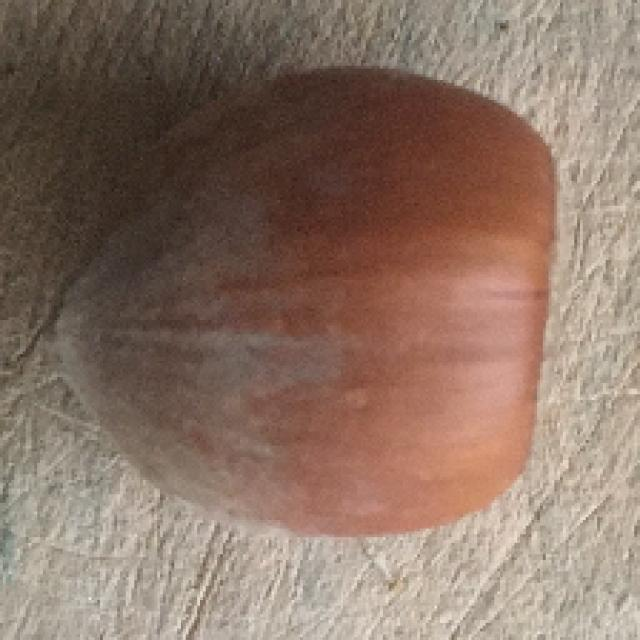QualityHazelnut: (56, 64, 559, 544)
